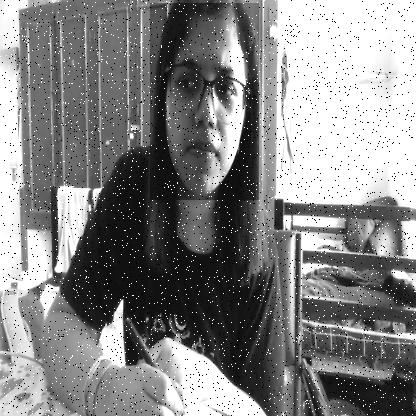Normal: (150, 3, 259, 200)
